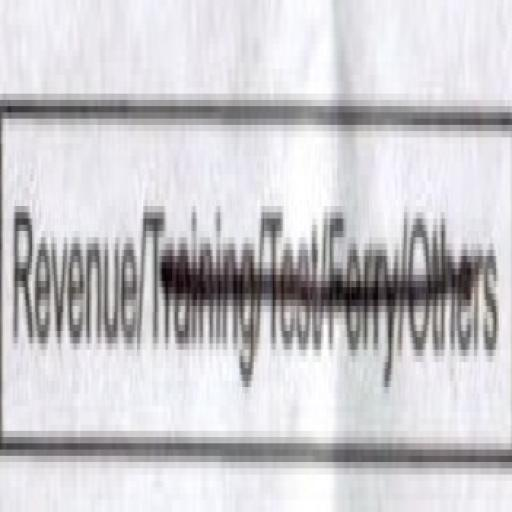check: (0, 25, 144, 506)
